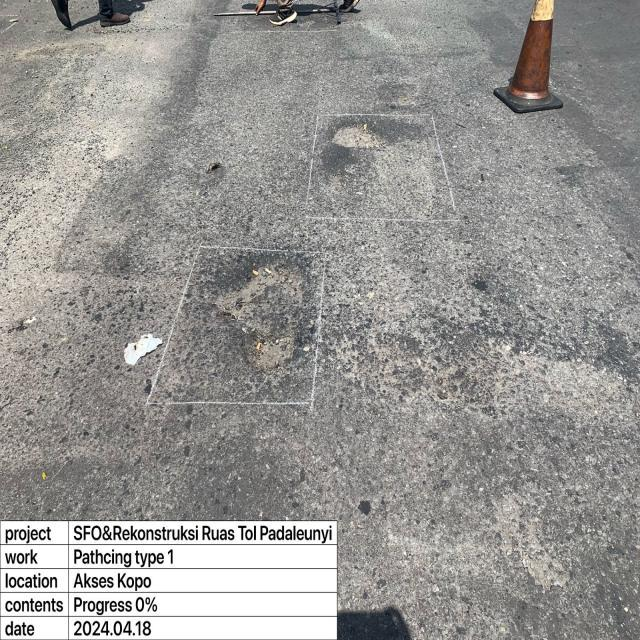Buraco: (207, 250, 315, 376), (322, 117, 396, 153), (192, 155, 238, 189), (5, 16, 22, 25)
